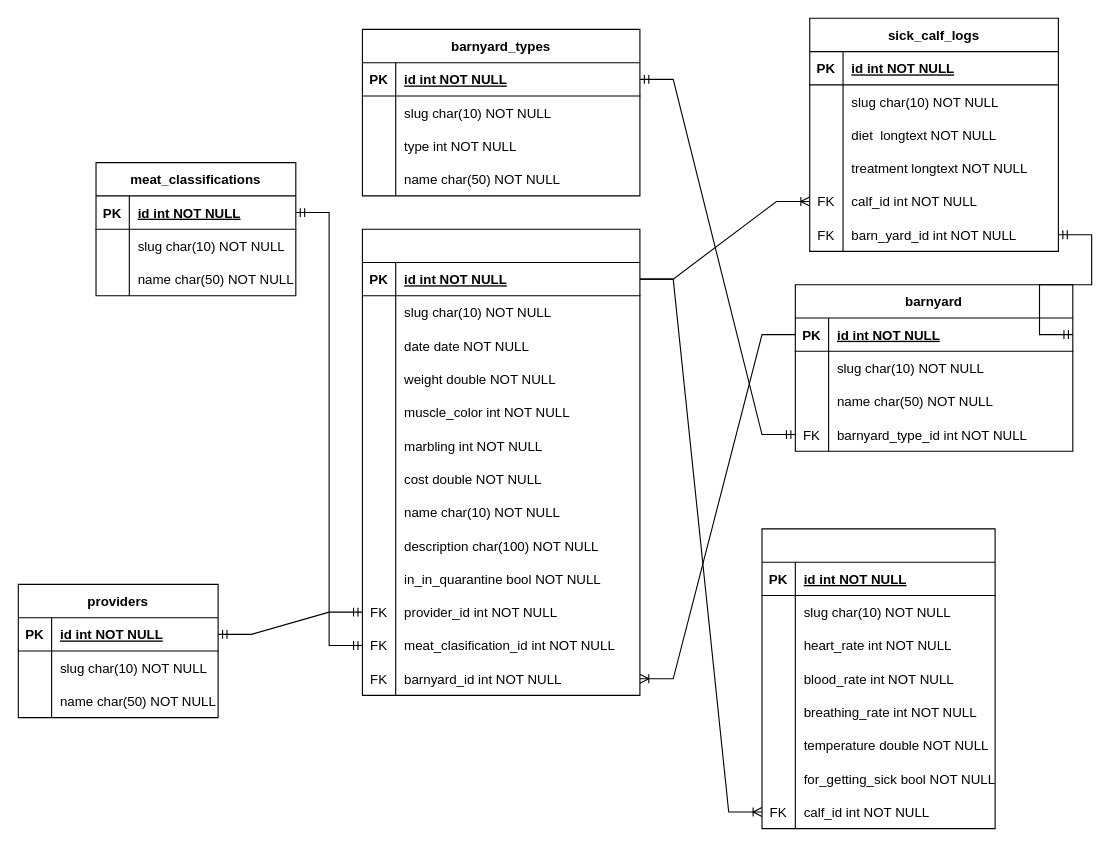
Some shapes in this 1110 by 847 pixel diagram are drawn without their labels. The shapes that lost their labels are listed below. From the top down, each one's box as (x1, y1, x2, y2) in pixels, then its label:
(361, 228, 640, 695): calves
(761, 528, 995, 829): sensor_logs
